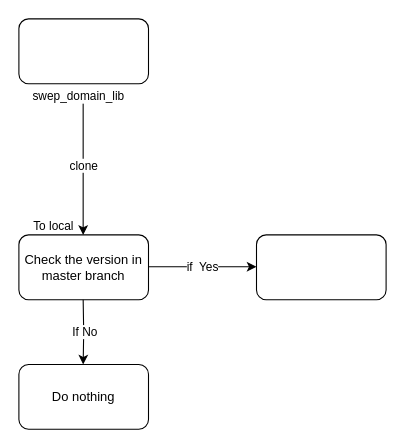
Image size: 405x448. Some labels were removed from this diagram. The centre of each missing label's shape, as x and y in pixels:
Build wheels and deploy the package to Artifactory: the point at 320,267
Gerrit Repo: the point at 83,51
